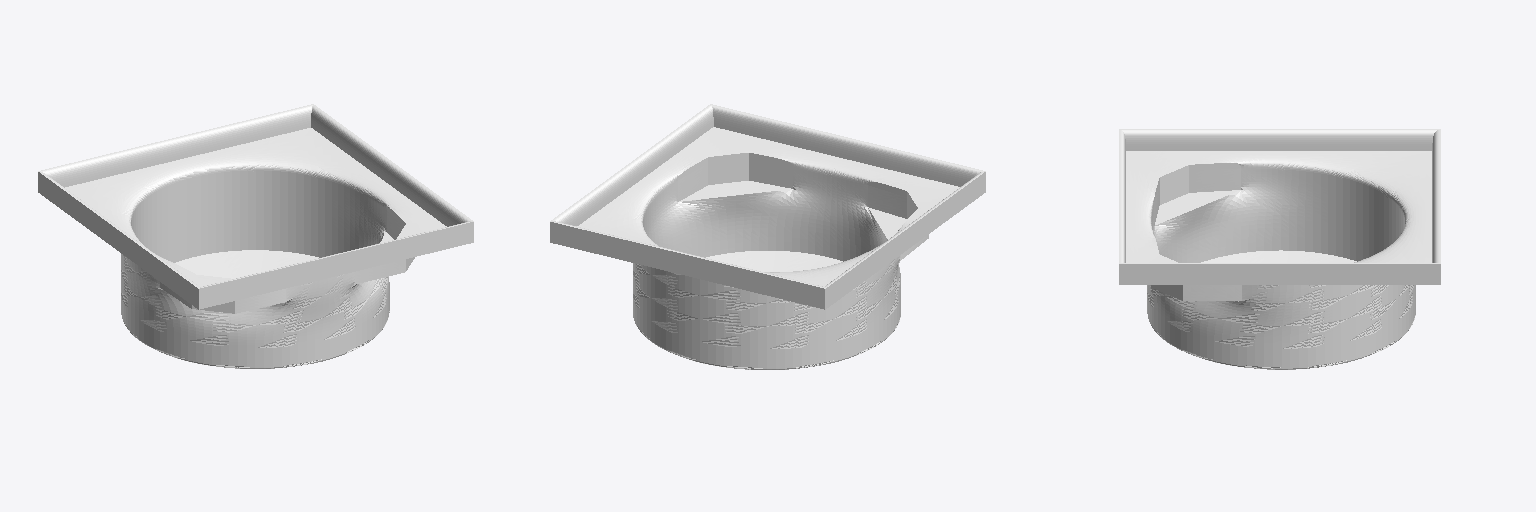
Rendered from vasca.obj.
3 views of the same model, side by side, from view 1: azimuth 30°, elevation 25°; view 2: azimuth 150°, elevation 25°; view 3: azimuth 270°, elevation 25° (orthographic).
Visible parts, largest first — view 1: Cylinder001; view 2: Cylinder001; view 3: Cylinder001.
Part boxes in pixels (x1,y1,x2,y2): Cylinder001: (38, 104, 473, 368); Cylinder001: (550, 104, 985, 369); Cylinder001: (1119, 129, 1440, 369).
Bounding box in the file's own units: 1416 × 585 × 1430.